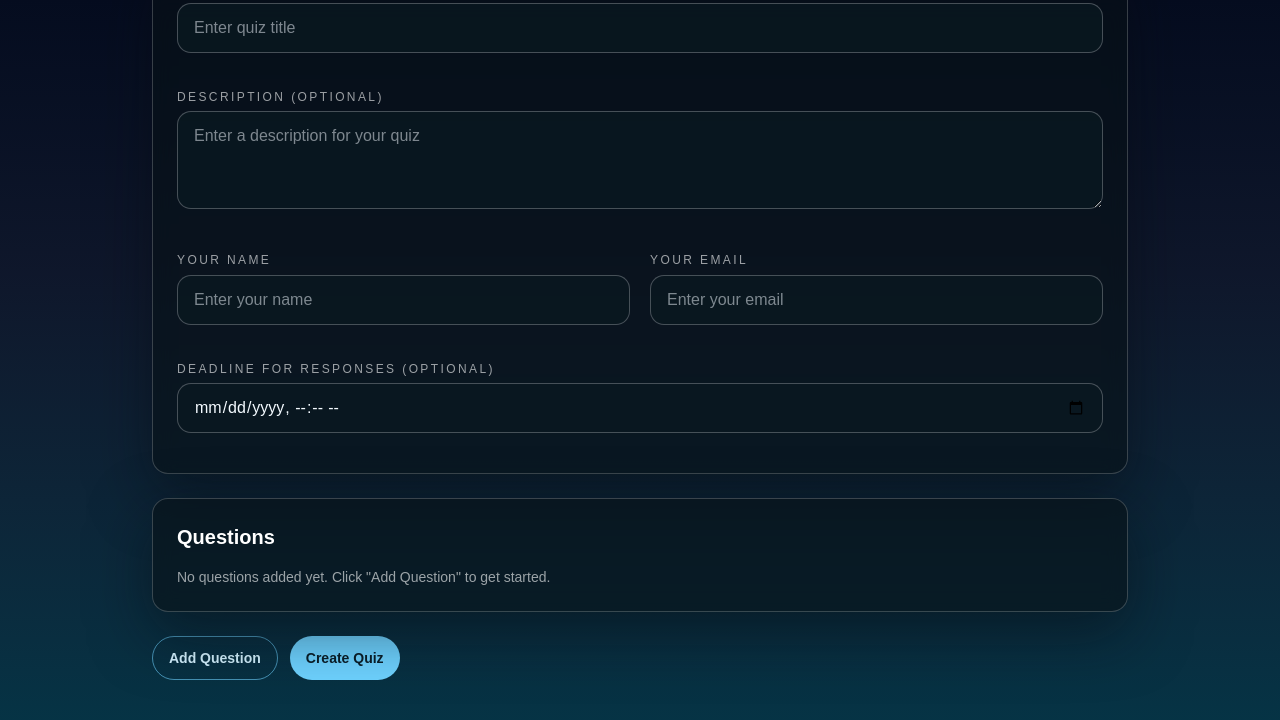
Test case: CreateQuizPage › adds and removes a question card
(page scrolled)
Click the button "Add Question" at coordinates (215, 658), box [152,636,278,680]
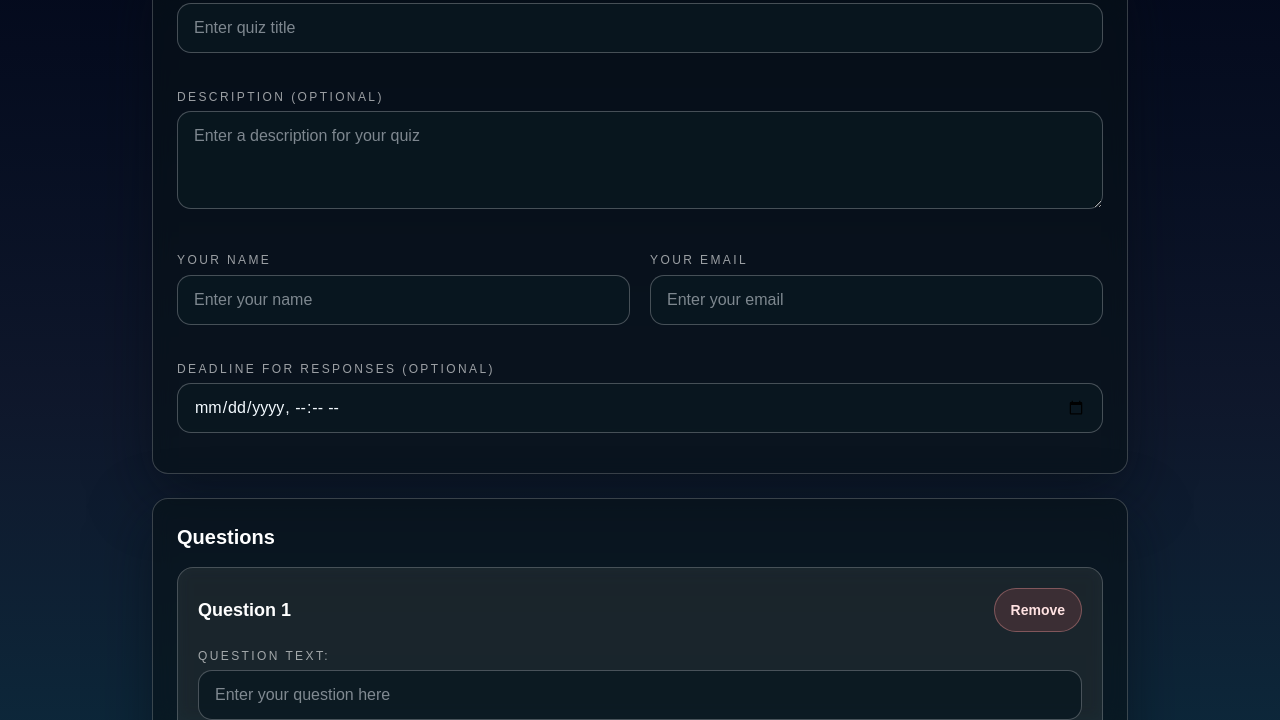
Expected: the heading "Question 1" is shown, [198,596,291,624]
Click the button "Remove" at coordinates (1038, 610), box [994,588,1082,632]
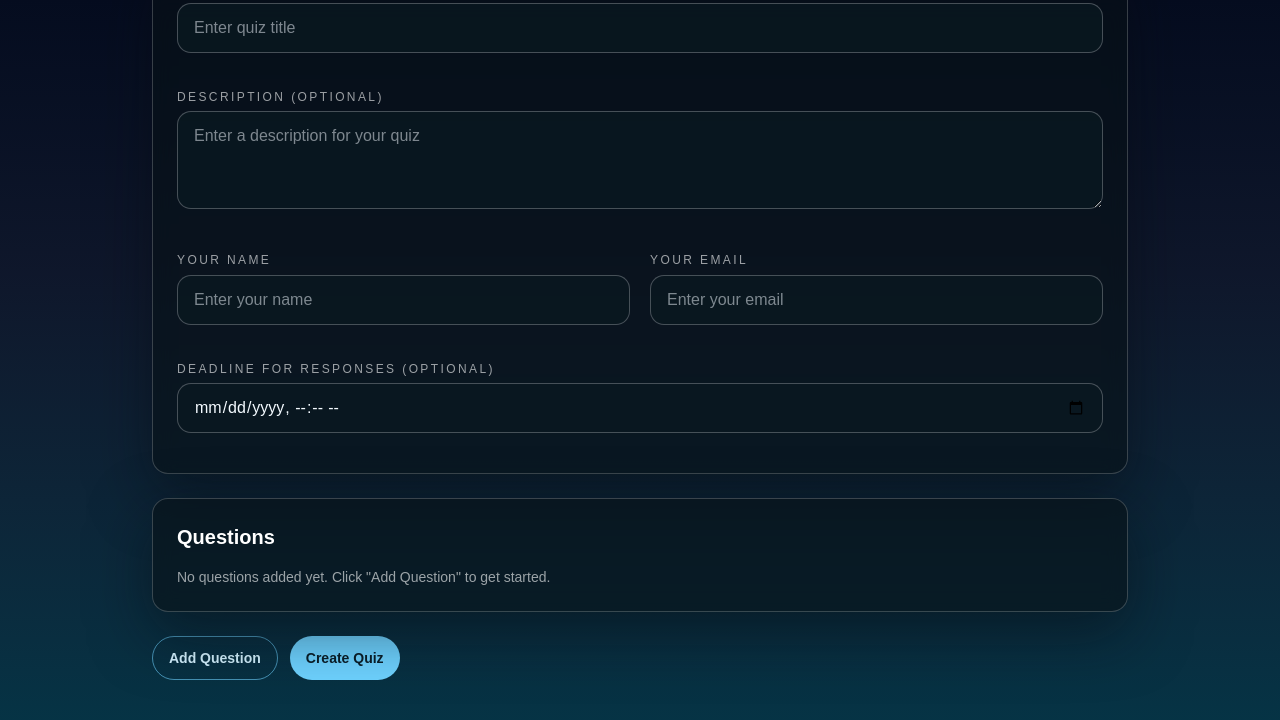
Expected: the heading "Question 1" is gone
